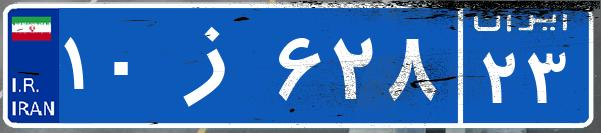0: (110, 28, 158, 105)
1: (57, 26, 110, 107)
2: (330, 28, 385, 110), (475, 38, 525, 113)
3: (525, 38, 570, 115)
6: (273, 28, 330, 110)
8: (385, 28, 445, 110)
ز: (158, 15, 273, 115)
